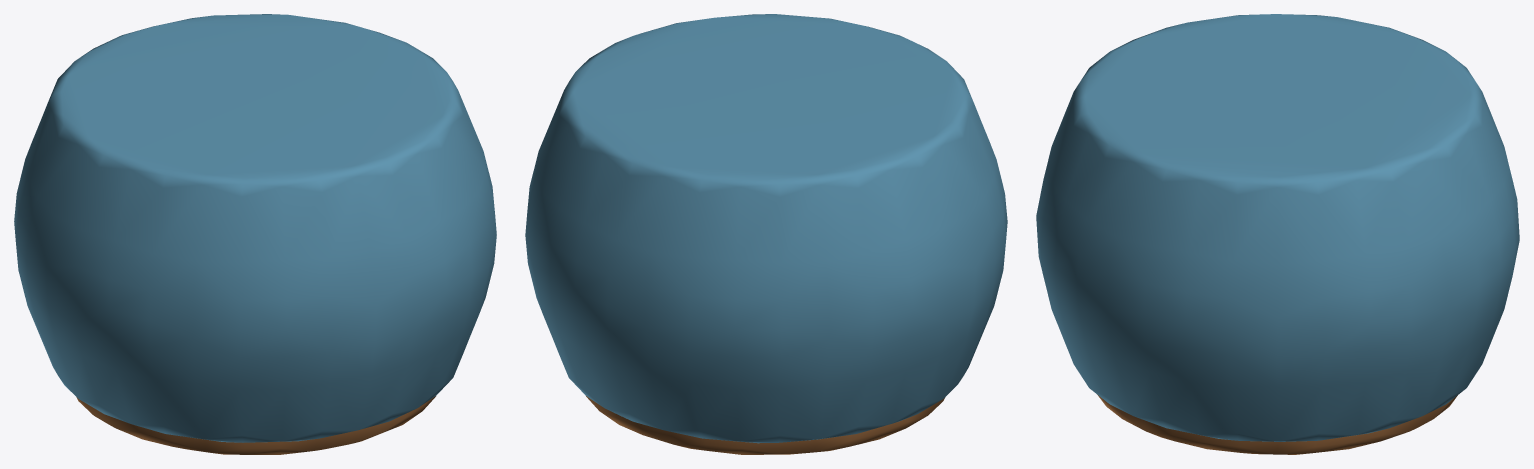
The model's file is stool_05_blue.fbx.
3 views of the same model, side by side, from view 1: azimuth 30°, elevation 25°; view 2: azimuth 150°, elevation 25°; view 3: azimuth 270°, elevation 25° (orthographic).
Parts seen in each view (by area): view 1: stool_05_blue; view 2: stool_05_blue; view 3: stool_05_blue.
Part boxes in pixels (x1,y1,x2,y2): stool_05_blue: [14, 14, 496, 454]; stool_05_blue: [525, 14, 1007, 454]; stool_05_blue: [1036, 14, 1519, 454].
Bounding box in the file's own units: 74.92 × 48.55 × 74.92.
2 materials, 2 textured.
